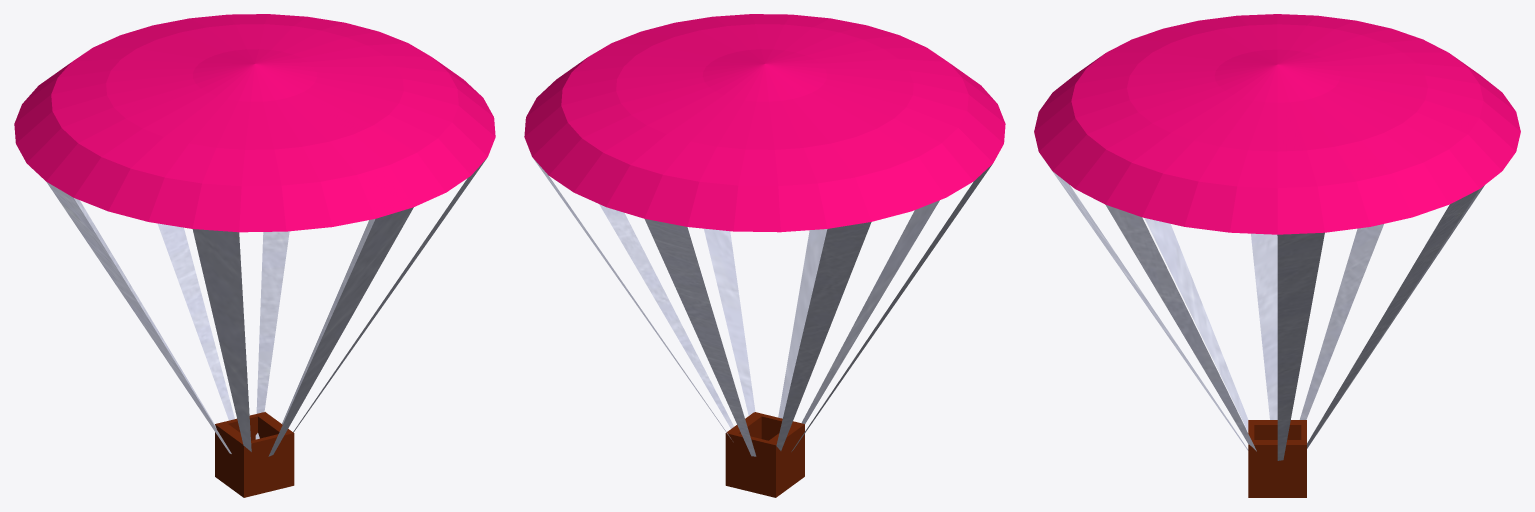
File: PBox.glb
3 renders of one model, left to right at view 1: azimuth 30°, elevation 25°; view 2: azimuth 150°, elevation 25°; view 3: azimuth 270°, elevation 25°, orthographic.
Visible parts, largest first — view 1: parachute, Beam; view 2: parachute, Beam; view 3: parachute, Beam.
Boxes of the visible parts, <box> form: parachute: <box>14,14,495,456</box>; Beam: <box>215,412,294,497</box>; parachute: <box>524,14,1005,456</box>; Beam: <box>725,412,804,497</box>; parachute: <box>1034,14,1520,460</box>; Beam: <box>1248,420,1306,497</box>.
Size of the model in its own units: 8.3 by 8.08 by 8.3.
2 materials, 1 textured.
